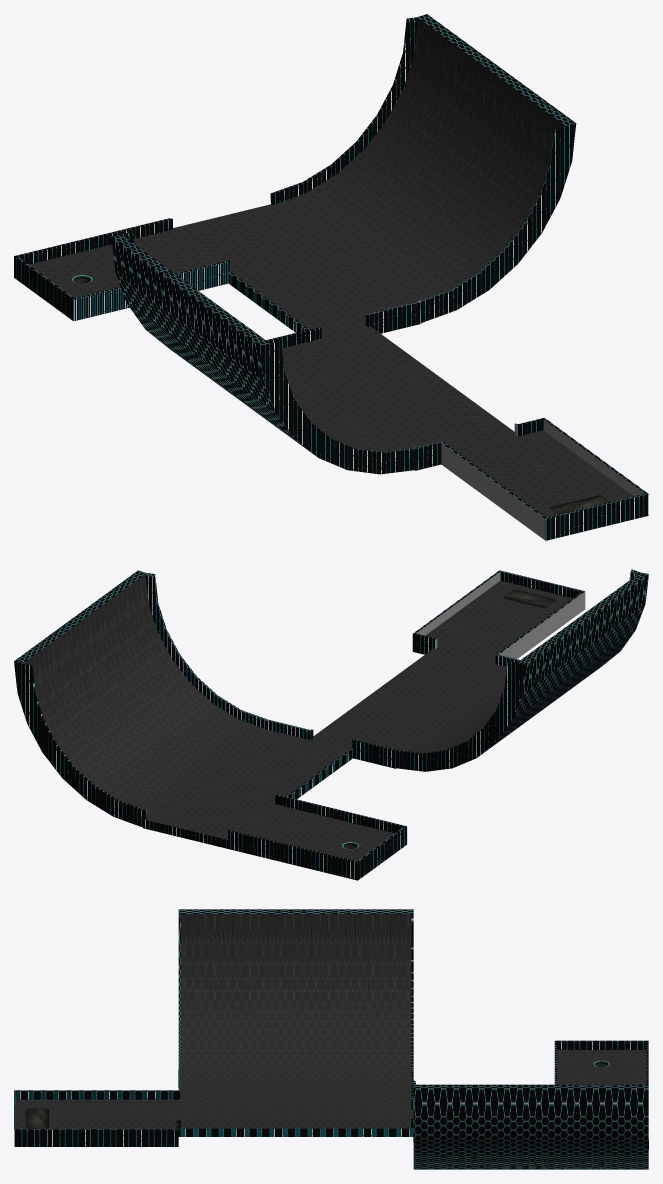
Rendered from Hole_07.FBX.
3 views of the same model, one above another, from view 1: azimuth 30°, elevation 25°; view 2: azimuth 150°, elevation 25°; view 3: azimuth 270°, elevation 25° (orthographic). The views are drawn at different scales.
Visible parts, largest first — view 1: Hoyo_7; view 2: Hoyo_7; view 3: Hoyo_7.
Part boxes in pixels (x1,y1,x2,y2): Hoyo_7: (14,14,648,540); Hoyo_7: (14,569,648,880); Hoyo_7: (14,909,648,1169).
Bounding box in the file's own units: 180 × 60.94 × 270.
Materials: 5 (4 with a texture image).
